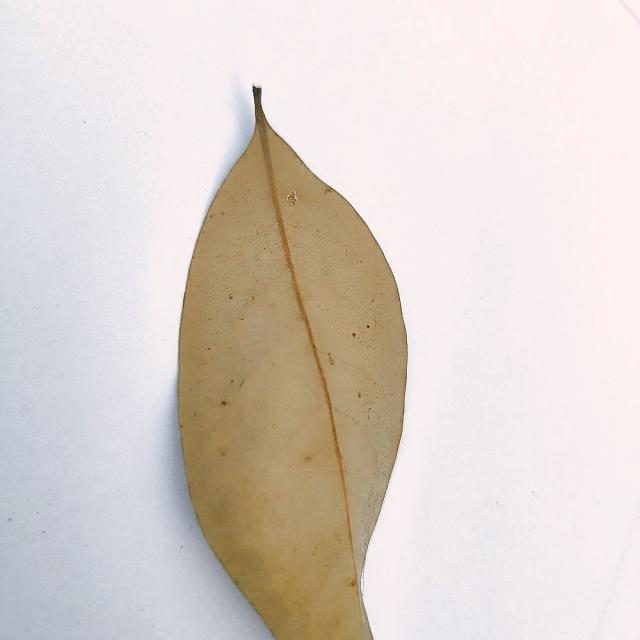Dry_Leaf-Lychee: (175, 88, 409, 639)
